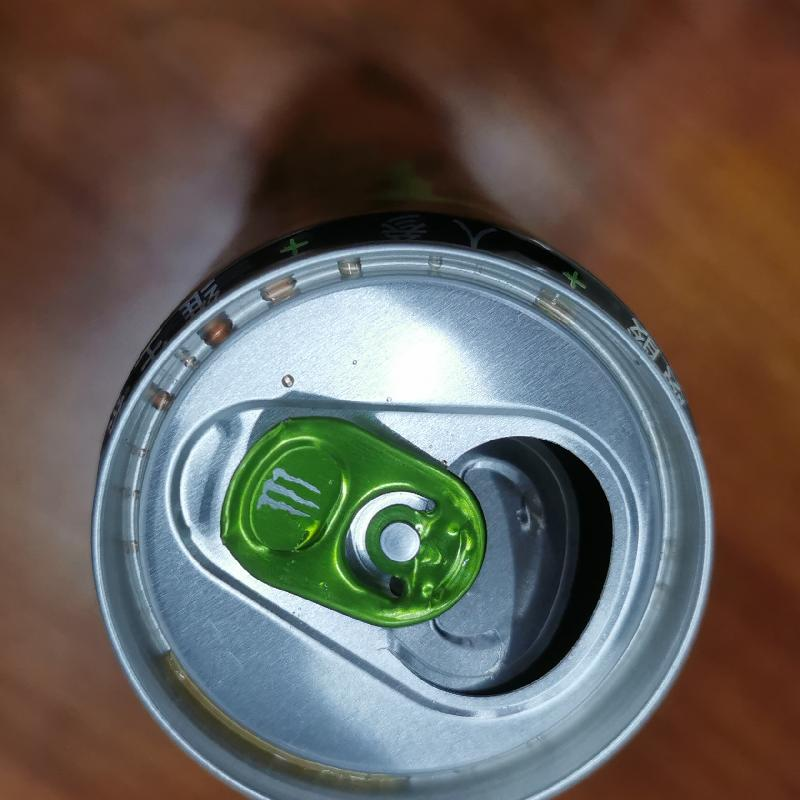cans: (85, 131, 720, 799)
